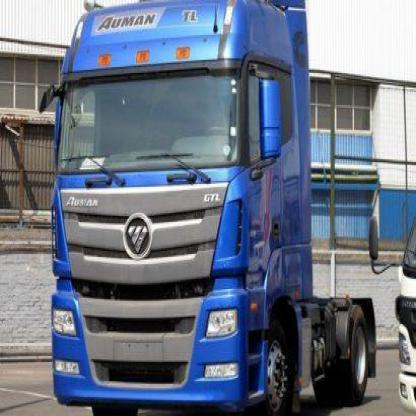Truck: (47, 0, 372, 416), (395, 214, 416, 416)
